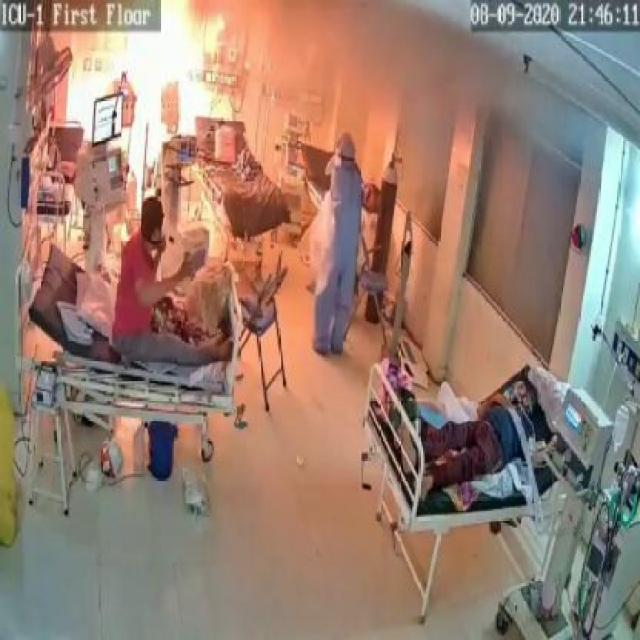fire: (103, 1, 240, 147)
smoke: (279, 2, 599, 158)
